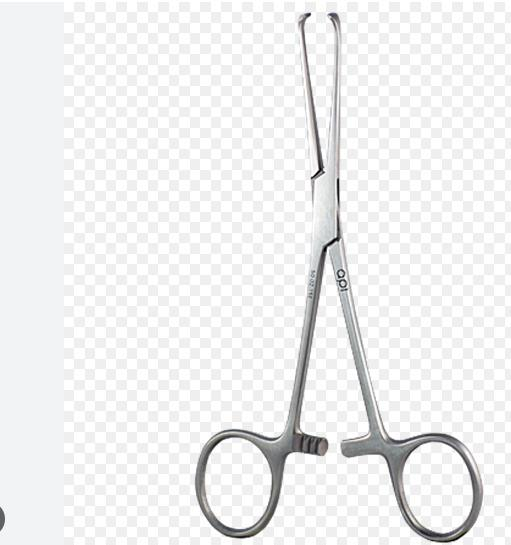Allis Forceps: (196, 7, 487, 545)
